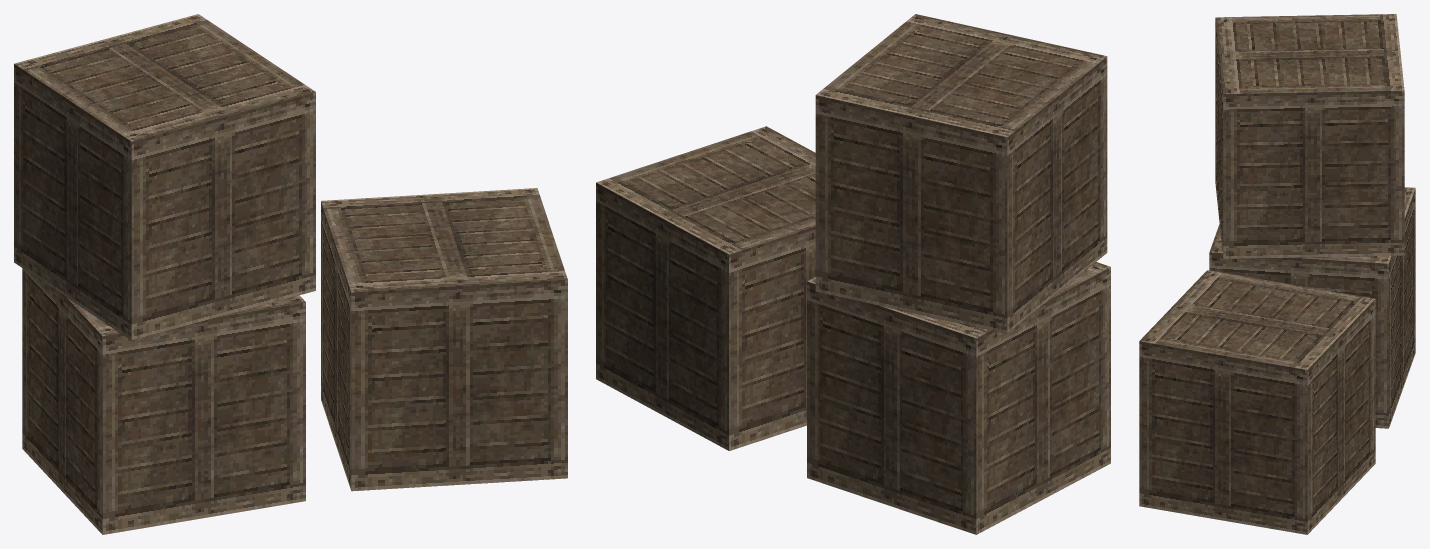
File: crate_big.glb
3 views of the same model, side by side, from view 1: azimuth 30°, elevation 25°; view 2: azimuth 150°, elevation 25°; view 3: azimuth 270°, elevation 25° (orthographic). The views are drawn at different scales.
Visible parts, largest first — view 1: WCRATE2; view 2: WCRATE2; view 3: WCRATE2.
Boxes of the visible parts, left/top/right/bottom form: WCRATE2: left=14, top=14, right=567, bottom=534; WCRATE2: left=596, top=14, right=1110, bottom=534; WCRATE2: left=1139, top=14, right=1415, bottom=534.
Size of the model in its own units: 2.13 by 1.7 by 1.28.
Materials: 1 (1 with a texture image).
